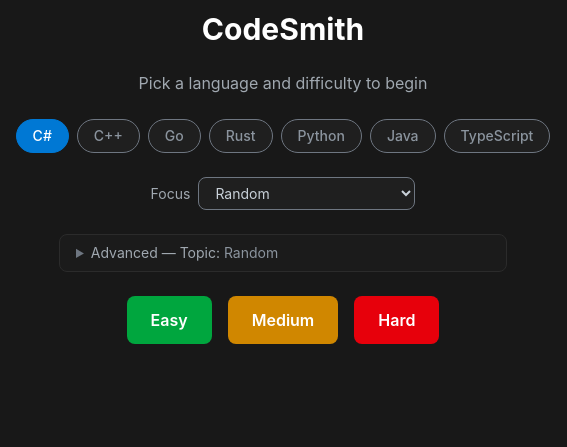
Test case: ChatWindow › creating a session › shows FailureNotice when session creation fails
Click the button "Easy" at (169, 320), box 127,296 -> 212,344
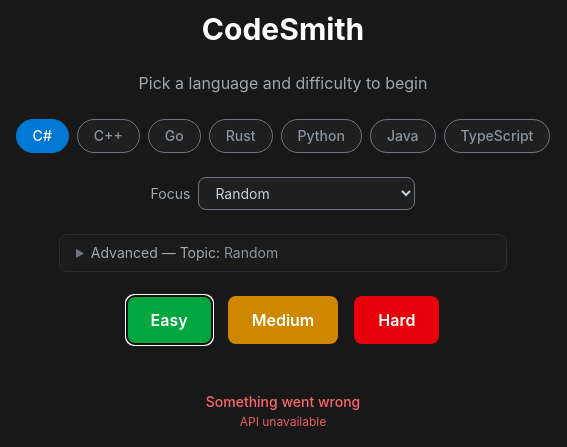
Now the message "Something went wrong API unavailable" is shown, box 206,392 -> 360,430
Now the text "API unavailable" is shown, box 240,414 -> 326,429
